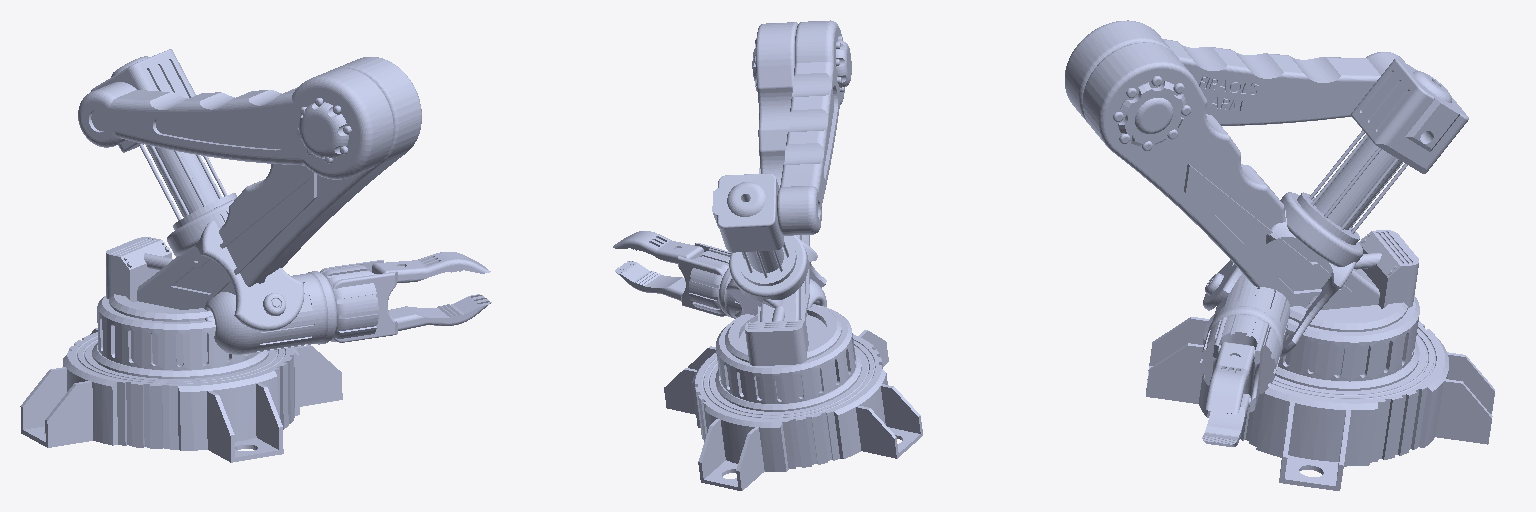
robot.urdf — Robotic_Arm:
<?xml version="1.0" encoding="utf-8"?>
<!-- This URDF was automatically created by SolidWorks to URDF Exporter! Originally created by Stephen Brawner (brawner@gmail.com) 
     Commit Version: 1.6.0-4-g7f85cfe  Build Version: 1.6.7995.38578
     For more information, please see http://wiki.ros.org/sw_urdf_exporter -->
<robot
  name="Robotic_Arm">
  <link
    name="base_link">
    <inertial>
      <origin
        xyz="0.70723 0.89479 1.3289"
        rpy="0 0 0" />
      <mass
        value="0.19084" />
      <inertia
        ixx="0.00014713"
        ixy="6.8937E-06"
        ixz="-8.9675E-07"
        iyy="0.00026594"
        iyz="-1.5506E-05"
        izz="0.00014875" />
    </inertial>
    <visual>
      <origin
        xyz="0 0 0"
        rpy="0 0 0" />
      <geometry>
        <mesh
          filename="package://Robotic_Arm/meshes/base_link.STL" />
      </geometry>
      <material
        name="">
        <color
          rgba="0.79216 0.81961 0.93333 1" />
      </material>
    </visual>
    <collision>
      <origin
        xyz="0 0 0"
        rpy="0 0 0" />
      <geometry>
        <mesh
          filename="package://Robotic_Arm/meshes/base_link.STL" />
      </geometry>
    </collision>
  </link>
  <link
    name="lower_arm">
    <inertial>
      <origin
        xyz="-0.034789 0.052024 4.4209E-05"
        rpy="0 0 0" />
      <mass
        value="0.19613" />
      <inertia
        ixx="0.00038821"
        ixy="0.00032912"
        ixz="5.654E-07"
        iyy="0.00038835"
        iyz="-6.0057E-07"
        izz="0.00072024" />
    </inertial>
    <visual>
      <origin
        xyz="0 0 0"
        rpy="0 0 0" />
      <geometry>
        <mesh
          filename="package://Robotic_Arm/meshes/lower_arm.STL" />
      </geometry>
      <material
        name="">
        <color
          rgba="0.79216 0.81961 0.93333 1" />
      </material>
    </visual>
    <collision>
      <origin
        xyz="0 0 0"
        rpy="0 0 0" />
      <geometry>
        <mesh
          filename="package://Robotic_Arm/meshes/lower_arm.STL" />
      </geometry>
    </collision>
  </link>
  <joint
    name="joint0"
    type="revolute">
    <origin
      xyz="0.70796 -1.3272 0.9075"
      rpy="1.6757 0.094954 1.9904" />
    <parent
      link="base_link" />
    <child
      link="lower_arm" />
    <axis
      xyz="0 1 0" />
    <limit
      lower="-3.14"
      upper="3.14"
      effort="10"
      velocity="1" />
  </joint>
  <link
    name="upper_arm">
    <inertial>
      <origin
        xyz="0.030278 0.032273 -0.019925"
        rpy="0 0 0" />
      <mass
        value="0.081835" />
      <inertia
        ixx="9.6287E-05"
        ixy="-7.8192E-05"
        ixz="-1.6357E-06"
        iyy="7.9895E-05"
        iyz="-1.7788E-06"
        izz="0.00017026" />
    </inertial>
    <visual>
      <origin
        xyz="0 0 0"
        rpy="0 0 0" />
      <geometry>
        <mesh
          filename="package://Robotic_Arm/meshes/upper_arm.STL" />
      </geometry>
      <material
        name="">
        <color
          rgba="0.79216 0.81961 0.93333 1" />
      </material>
    </visual>
    <collision>
      <origin
        xyz="0 0 0"
        rpy="0 0 0" />
      <geometry>
        <mesh
          filename="package://Robotic_Arm/meshes/upper_arm.STL" />
      </geometry>
    </collision>
  </link>
  <joint
    name="joint1"
    type="revolute">
    <origin
      xyz="-0.1 0.12129 0"
      rpy="0 0 -0.97771" />
    <parent
      link="lower_arm" />
    <child
      link="upper_arm" />
    <axis
      xyz="0 0 1" />
    <limit
      lower="-3.14"
      upper="3.14"
      effort="10"
      velocity="1" />
  </joint>
  <link
    name="shoulder_drive">
    <inertial>
      <origin
        xyz="0.0053519 -4.4717E-05 0.010345"
        rpy="0 0 0" />
      <mass
        value="0.036284" />
      <inertia
        ixx="1.6274E-05"
        ixy="-5.7101E-10"
        ixz="2.109E-07"
        iyy="1.6305E-05"
        iyz="-1.2692E-08"
        izz="4.537E-06" />
    </inertial>
    <visual>
      <origin
        xyz="0 0 0"
        rpy="0 0 0" />
      <geometry>
        <mesh
          filename="package://Robotic_Arm/meshes/shoulder_drive.STL" />
      </geometry>
      <material
        name="">
        <color
          rgba="0.79216 0.81961 0.93333 1" />
      </material>
    </visual>
    <collision>
      <origin
        xyz="0 0 0"
        rpy="0 0 0" />
      <geometry>
        <mesh
          filename="package://Robotic_Arm/meshes/shoulder_drive.STL" />
      </geometry>
    </collision>
  </link>
  <joint
    name="joint2"
    type="revolute">
    <origin
      xyz="0.08 0.09 0"
      rpy="1.9556 -1.5708 0" />
    <parent
      link="upper_arm" />
    <child
      link="shoulder_drive" />
    <axis
      xyz="1 0 0" />
    <limit
      lower="-3.14"
      upper="3.14"
      effort="10"
      velocity="1" />
  </joint>
  <link
    name="rotary_yoke">
    <inertial>
      <origin
        xyz="0.0034544 -8.8589E-10 -1.5216E-10"
        rpy="0 0 0" />
      <mass
        value="0.015723" />
      <inertia
        ixx="4.9761E-06"
        ixy="2.7011E-13"
        ixz="1.3689E-13"
        iyy="8.6886E-06"
        iyz="1.0867E-12"
        izz="6.6823E-06" />
    </inertial>
    <visual>
      <origin
        xyz="0 0 0"
        rpy="0 0 0" />
      <geometry>
        <mesh
          filename="package://Robotic_Arm/meshes/rotary_yoke.STL" />
      </geometry>
      <material
        name="">
        <color
          rgba="0.79216 0.81961 0.93333 1" />
      </material>
    </visual>
    <collision>
      <origin
        xyz="0 0 0"
        rpy="0 0 0" />
      <geometry>
        <mesh
          filename="package://Robotic_Arm/meshes/rotary_yoke.STL" />
      </geometry>
    </collision>
  </link>
  <joint
    name="joint3"
    type="revolute">
    <origin
      xyz="0.005 0 0.077514"
      rpy="1.1002 1.5708 0" />
    <parent
      link="shoulder_drive" />
    <child
      link="rotary_yoke" />
    <axis
      xyz="1 0 0" />
    <limit
      lower="-3.14"
      upper="3.14"
      effort="10"
      velocity="1" />
  </joint>
  <link
    name="wrist_module">
    <inertial>
      <origin
        xyz="0.0052933 6.3561E-10 3.6458E-10"
        rpy="0 0 0" />
      <mass
        value="0.034187" />
      <inertia
        ixx="3.7152E-06"
        ixy="4.4265E-13"
        ixz="1.2545E-13"
        iyy="8.9897E-06"
        iyz="-9.6955E-13"
        izz="9.0316E-06" />
    </inertial>
    <visual>
      <origin
        xyz="0 0 0"
        rpy="0 0 0" />
      <geometry>
        <mesh
          filename="package://Robotic_Arm/meshes/wrist_module.STL" />
      </geometry>
      <material
        name="">
        <color
          rgba="0.79216 0.81961 0.93333 1" />
      </material>
    </visual>
    <collision>
      <origin
        xyz="0 0 0"
        rpy="0 0 0" />
      <geometry>
        <mesh
          filename="package://Robotic_Arm/meshes/wrist_module.STL" />
      </geometry>
    </collision>
  </link>
  <joint
    name="joint4"
    type="revolute">
    <origin
      xyz="-0.025486 0 0"
      rpy="0 0 1.8687" />
    <parent
      link="rotary_yoke" />
    <child
      link="wrist_module" />
    <axis
      xyz="0 0 1" />
    <limit
      lower="-3.14"
      upper="3.14"
      effort="8"
      velocity="1" />
  </joint>
  <link
    name="gripper_actuator">
    <inertial>
      <origin
        xyz="-3.7917E-09 -9.0172E-09 0.0059505"
        rpy="0 0 0" />
      <mass
        value="0.015789" />
      <inertia
        ixx="1.6581E-06"
        ixy="4.1866E-12"
        ixz="5.5925E-13"
        iyy="1.6959E-06"
        iyz="8.6177E-13"
        izz="1.8592E-06" />
    </inertial>
    <visual>
      <origin
        xyz="0 0 0"
        rpy="0 0 0" />
      <geometry>
        <mesh
          filename="package://Robotic_Arm/meshes/gripper_actuator.STL" />
      </geometry>
      <material
        name="">
        <color
          rgba="0.79216 0.81961 0.93333 1" />
      </material>
    </visual>
    <collision>
      <origin
        xyz="0 0 0"
        rpy="0 0 0" />
      <geometry>
        <mesh
          filename="package://Robotic_Arm/meshes/gripper_actuator.STL" />
      </geometry>
    </collision>
  </link>
  <joint
    name="joint5"
    type="revolute">
    <origin
      xyz="0.03356 0 0"
      rpy="-1.5708 0.5658 -1.5708" />
    <parent
      link="wrist_module" />
    <child
      link="gripper_actuator" />
    <axis
      xyz="0 0 1" />
    <limit
      lower="-3.14"
      upper="3.14"
      effort="10"
      velocity="1" />
  </joint>
  <link
    name="gripper_1">
    <inertial>
      <origin
        xyz="0.018895 0.0012108 5.4008E-08"
        rpy="0 0 0" />
      <mass
        value="0.0029088" />
      <inertia
        ixx="5.5054E-08"
        ixy="-3.6466E-08"
        ixz="-5.9482E-12"
        iyy="5.6195E-07"
        iyz="6.3354E-14"
        izz="5.2896E-07" />
    </inertial>
    <visual>
      <origin
        xyz="0 0 0"
        rpy="0 0 0" />
      <geometry>
        <mesh
          filename="package://Robotic_Arm/meshes/gripper_1.STL" />
      </geometry>
      <material
        name="">
        <color
          rgba="0.79216 0.81961 0.93333 1" />
      </material>
    </visual>
    <collision>
      <origin
        xyz="0 0 0"
        rpy="0 0 0" />
      <geometry>
        <mesh
          filename="package://Robotic_Arm/meshes/gripper_1.STL" />
      </geometry>
    </collision>
  </link>
  <joint
    name="joint6"
    type="revolute">
    <origin
      xyz="-0.011 0 0.02344"
      rpy="1.5708 -1.5034 0" />
    <parent
      link="gripper_actuator" />
    <child
      link="gripper_1" />
    <axis
      xyz="0 0 1" />
    <limit
      lower="-0.2"
      upper="1.57"
      effort="2"
      velocity="1" />
  </joint>
  <link
    name="gripper_2">
    <inertial>
      <origin
        xyz="0.018895 0.0012108 5.2626E-08"
        rpy="0 0 0" />
      <mass
        value="0.0029088" />
      <inertia
        ixx="5.5055E-08"
        ixy="-3.6466E-08"
        ixz="-5.9756E-12"
        iyy="5.6195E-07"
        iyz="3.1914E-14"
        izz="5.2896E-07" />
    </inertial>
    <visual>
      <origin
        xyz="0 0 0"
        rpy="0 0 0" />
      <geometry>
        <mesh
          filename="package://Robotic_Arm/meshes/gripper_2.STL" />
      </geometry>
      <material
        name="">
        <color
          rgba="0.79216 0.81961 0.93333 1" />
      </material>
    </visual>
    <collision>
      <origin
        xyz="0 0 0"
        rpy="0 0 0" />
      <geometry>
        <mesh
          filename="package://Robotic_Arm/meshes/gripper_2.STL" />
      </geometry>
    </collision>
  </link>
  <joint
    name="joint7"
    type="revolute">
    <origin
      xyz="0.011 0 0.02344"
      rpy="1.5708 -1.5034 3.1416" />
    <parent
      link="gripper_actuator" />
    <child
      link="gripper_2" />
    <axis
      xyz="0 0 1" />
    <limit
      lower="-0.2"
      upper="1.57"
      effort="2"
      velocity="1" />
  </joint>
</robot>

--- Render facts (derived) ---
3 views of the same robot in one strip: view 1: azimuth 30°, elevation 25°; view 2: azimuth 150°, elevation 25°; view 3: azimuth 270°, elevation 25° (orthographic).
Robot: Robotic_Arm — 9 links, 8 joints (8 revolute); root link base_link; default pose: all joints at 0.
Visible links, largest first — view 1: lower_arm, base_link, upper_arm, shoulder_drive, rotary_yoke, wrist_module, gripper_actuator, gripper_2, gripper_1; view 2: base_link, lower_arm, upper_arm, shoulder_drive, rotary_yoke, gripper_actuator, gripper_2, gripper_1, wrist_module; view 3: lower_arm, base_link, upper_arm, shoulder_drive, rotary_yoke, gripper_actuator, wrist_module, gripper_2, gripper_1.
Boxes of the visible links, x1=… form: lower_arm: x1=97, y1=57, x2=421, y2=370; base_link: x1=20, y1=328, x2=342, y2=462; upper_arm: x1=78, y1=68, x2=393, y2=179; shoulder_drive: x1=91, y1=49, x2=236, y2=229; rotary_yoke: x1=167, y1=199, x2=304, y2=330; wrist_module: x1=204, y1=271, x2=336, y2=354; gripper_actuator: x1=320, y1=260, x2=397, y2=342; gripper_2: x1=372, y1=252, x2=490, y2=282; gripper_1: x1=389, y1=294, x2=491, y2=330; base_link: x1=664, y1=330, x2=922, y2=490; lower_arm: x1=716, y1=22, x2=855, y2=403; upper_arm: x1=777, y1=20, x2=851, y2=235; shoulder_drive: x1=712, y1=173, x2=796, y2=285; rotary_yoke: x1=726, y1=235, x2=826, y2=317; gripper_actuator: x1=677, y1=243, x2=730, y2=316; gripper_2: x1=613, y1=231, x2=703, y2=263; gripper_1: x1=615, y1=261, x2=685, y2=300; wrist_module: x1=719, y1=268, x2=826, y2=318; lower_arm: x1=1083, y1=42, x2=1419, y2=381; base_link: x1=1146, y1=315, x2=1494, y2=490; upper_arm: x1=1065, y1=20, x2=1404, y2=125; shoulder_drive: x1=1297, y1=58, x2=1468, y2=244; rotary_yoke: x1=1203, y1=192, x2=1362, y2=357; gripper_actuator: x1=1200, y1=314, x2=1280, y2=412; wrist_module: x1=1207, y1=273, x2=1289, y2=356; gripper_2: x1=1205, y1=342, x2=1254, y2=414; gripper_1: x1=1202, y1=394, x2=1250, y2=446.
Bounding box of the posed robot: 0.1971 × 0.1742 × 0.1939 m (x, y, z).
Meshes: 9 distinct files referenced, 9 mesh visuals loaded (9 binary STL).
